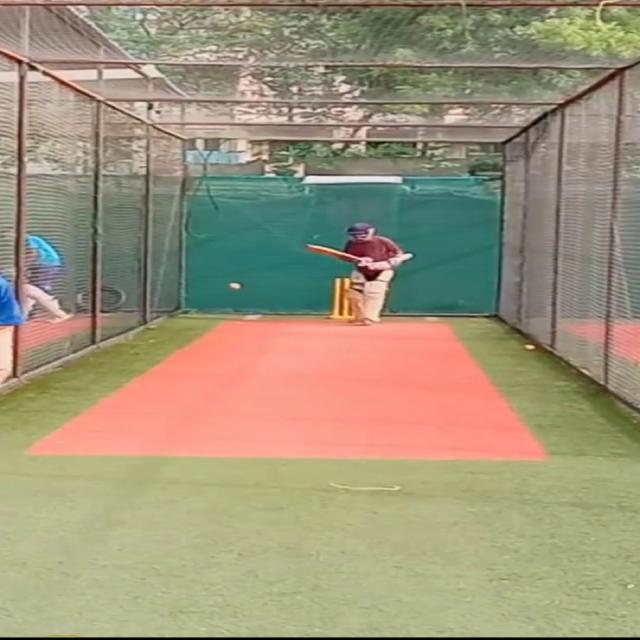ball: (225, 281, 243, 289), (519, 343, 535, 351)
stump: (328, 277, 350, 320)
